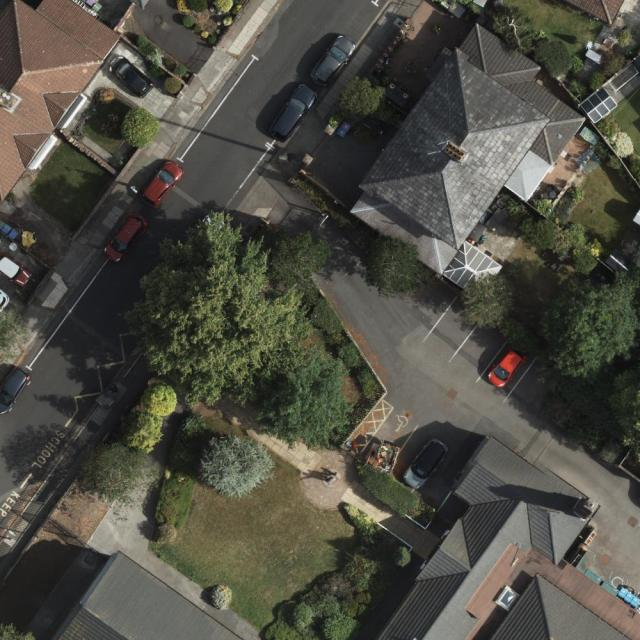roof: (351, 22, 584, 302), (374, 435, 640, 640), (1, 0, 120, 203), (59, 549, 246, 640), (565, 0, 626, 26)
skylight: (495, 584, 523, 612)
